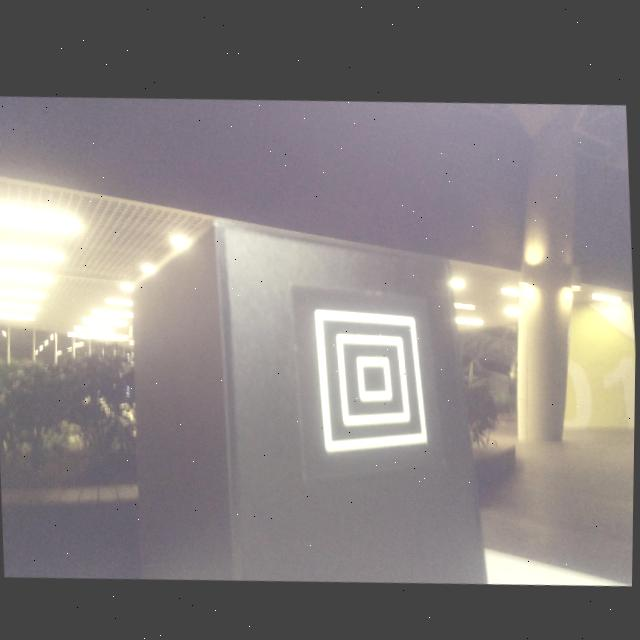BULLSEYE: (315, 305, 427, 449)
